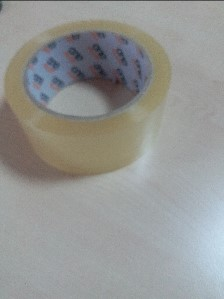band: (6, 12, 173, 177)
